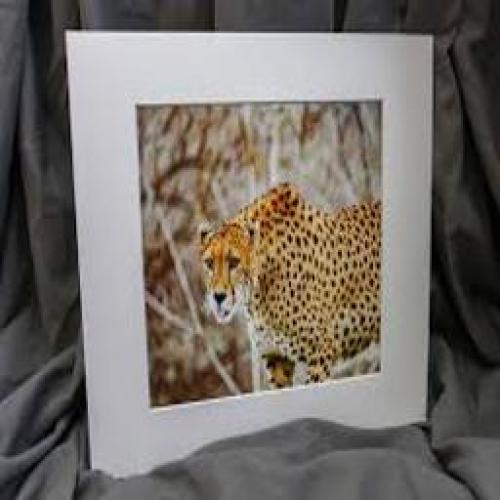cheetah-endangered: (193, 179, 380, 388)
